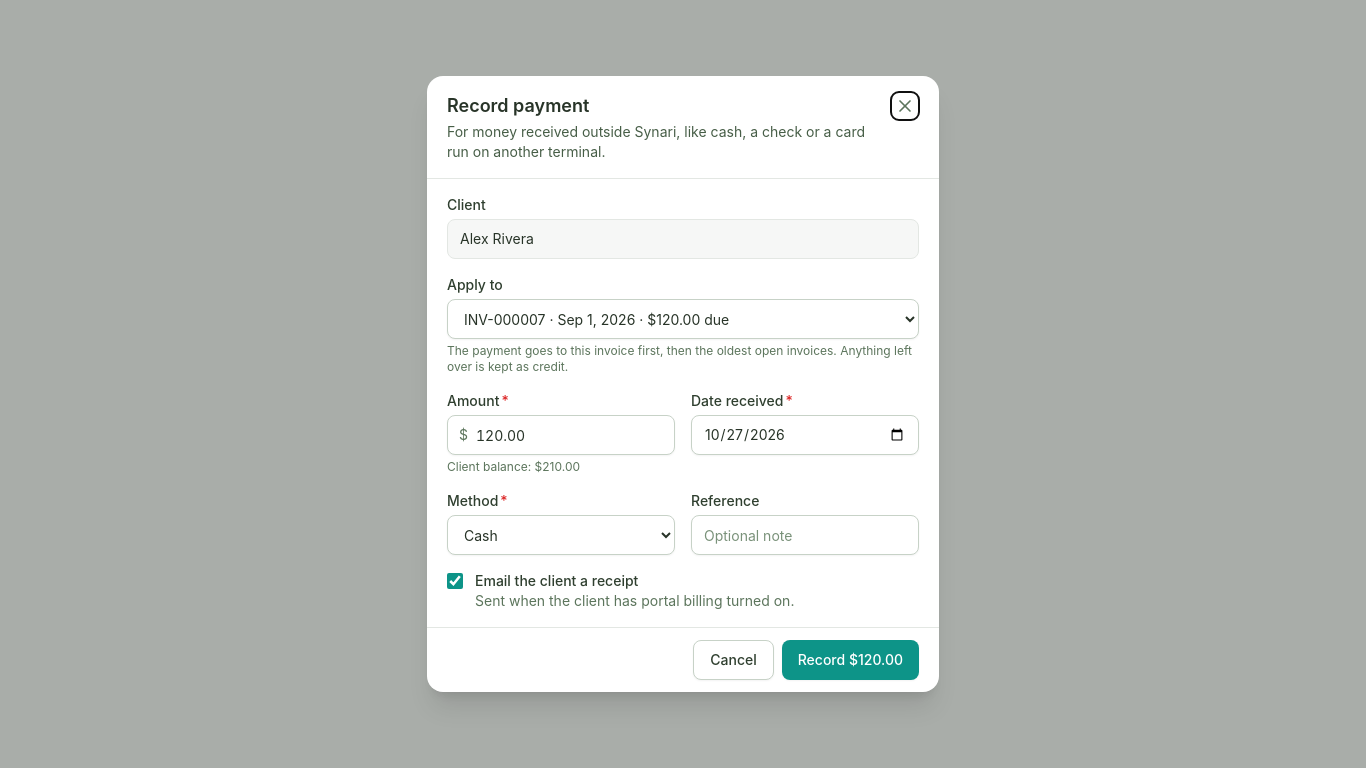
RecordPaymentModal › prefills the chosen invoice balance and records the payment against it
This screenshot has width=1366, height=768.
Expected: the text "Alex Rivera" is shown, left=447, top=219, right=919, bottom=259
Expected: the field labelled "Amount*" holds "120.00", left=447, top=415, right=675, bottom=455
Select "Check" in the dropdown labelled "Method*". click: (561, 535)
box: left=447, top=515, right=675, bottom=555
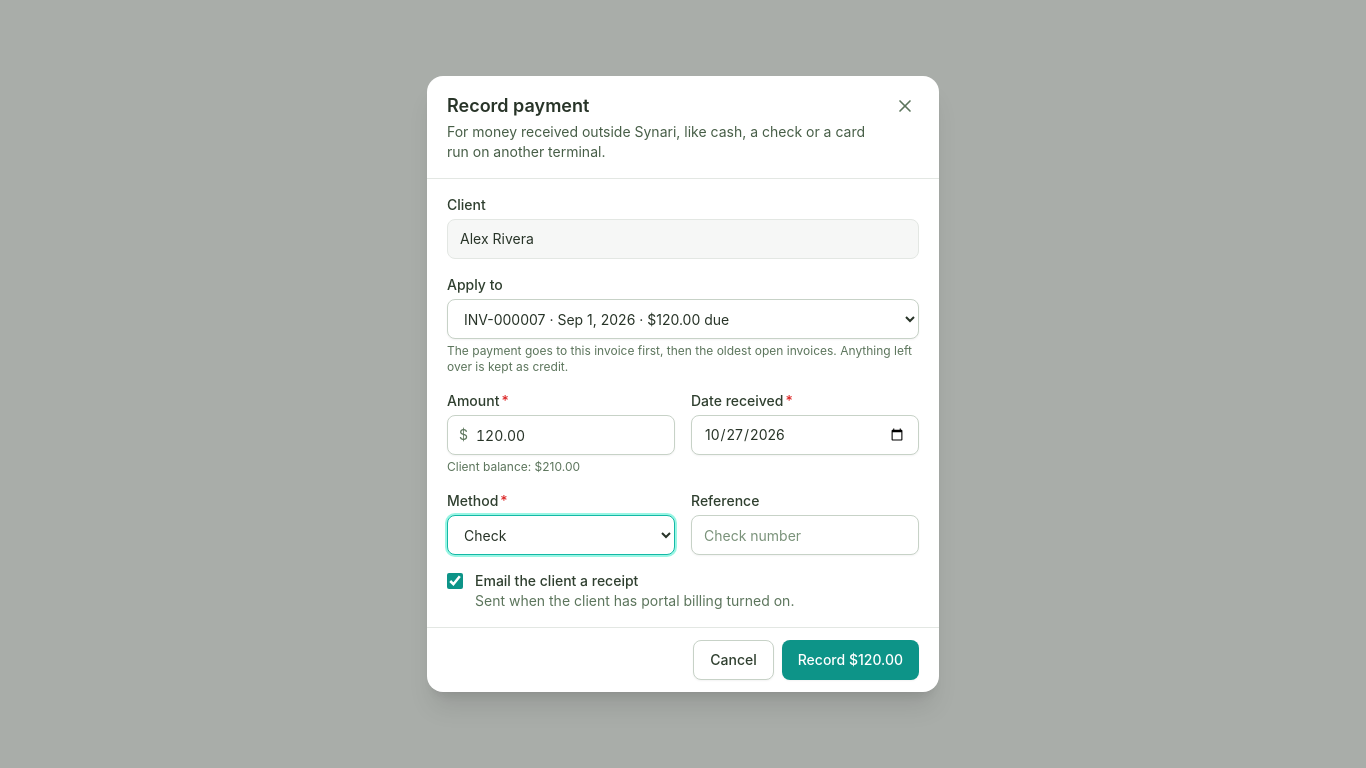
Type "1042" into the field labelled "Reference". click: (805, 535)
box: left=691, top=515, right=919, bottom=555
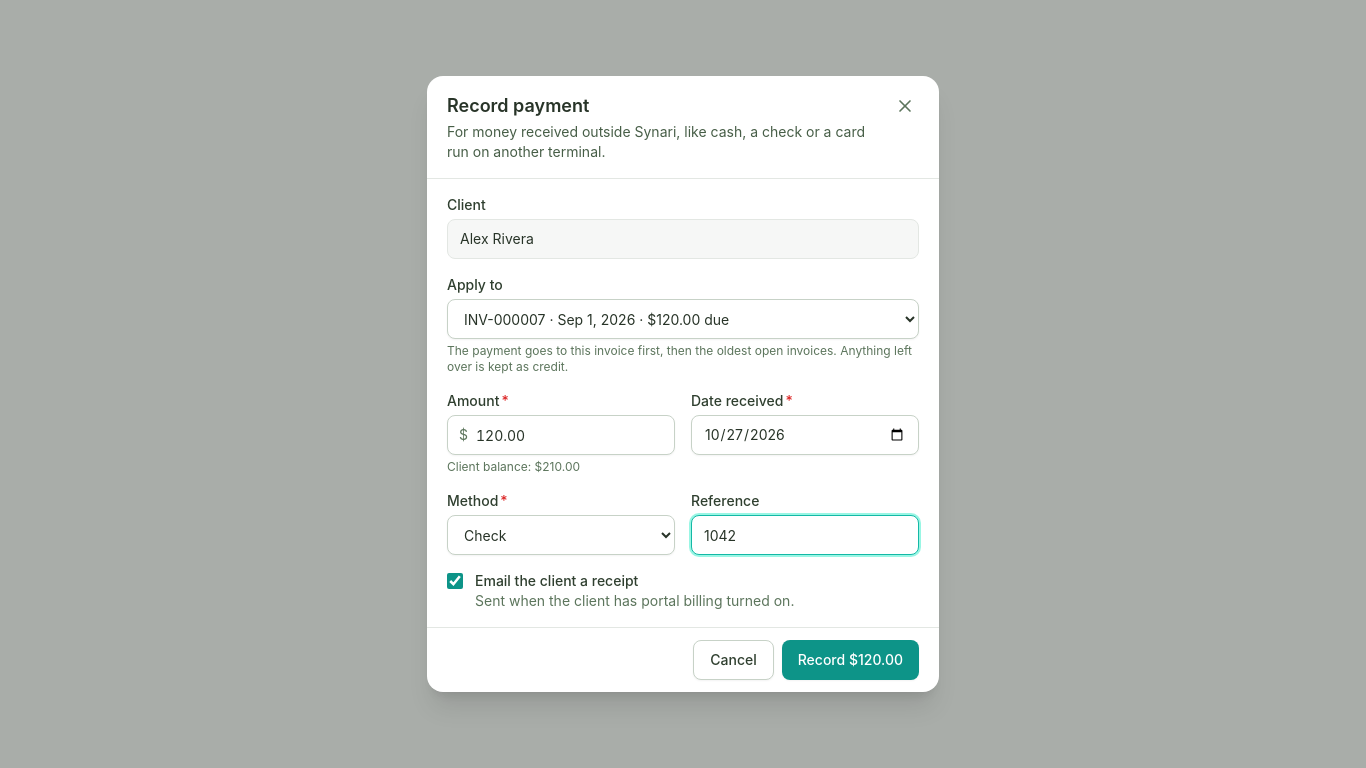
Click the button "Record $120.00". click: (850, 660)
box: left=782, top=640, right=919, bottom=680
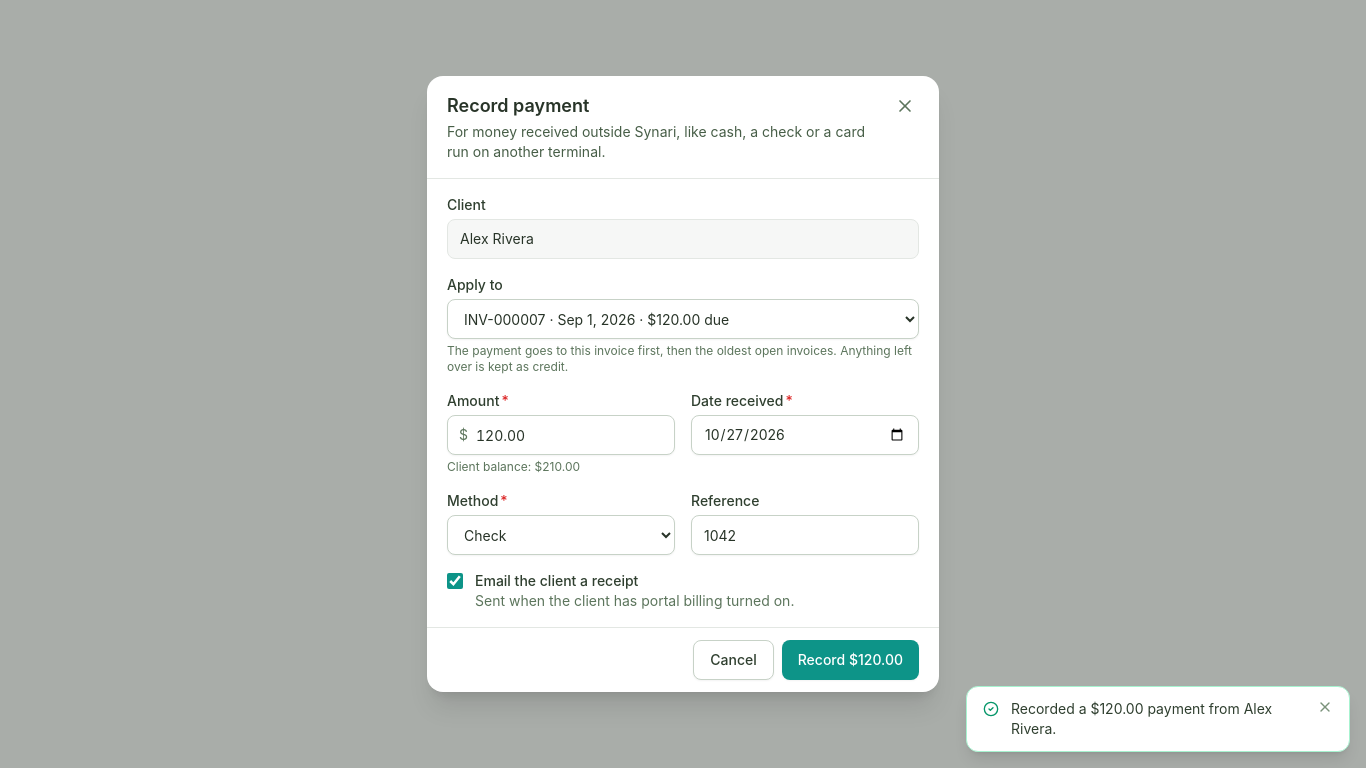
Result: the text "Recorded a $120.00 payment from Alex Rivera." is shown at left=1011, top=699, right=1305, bottom=739
